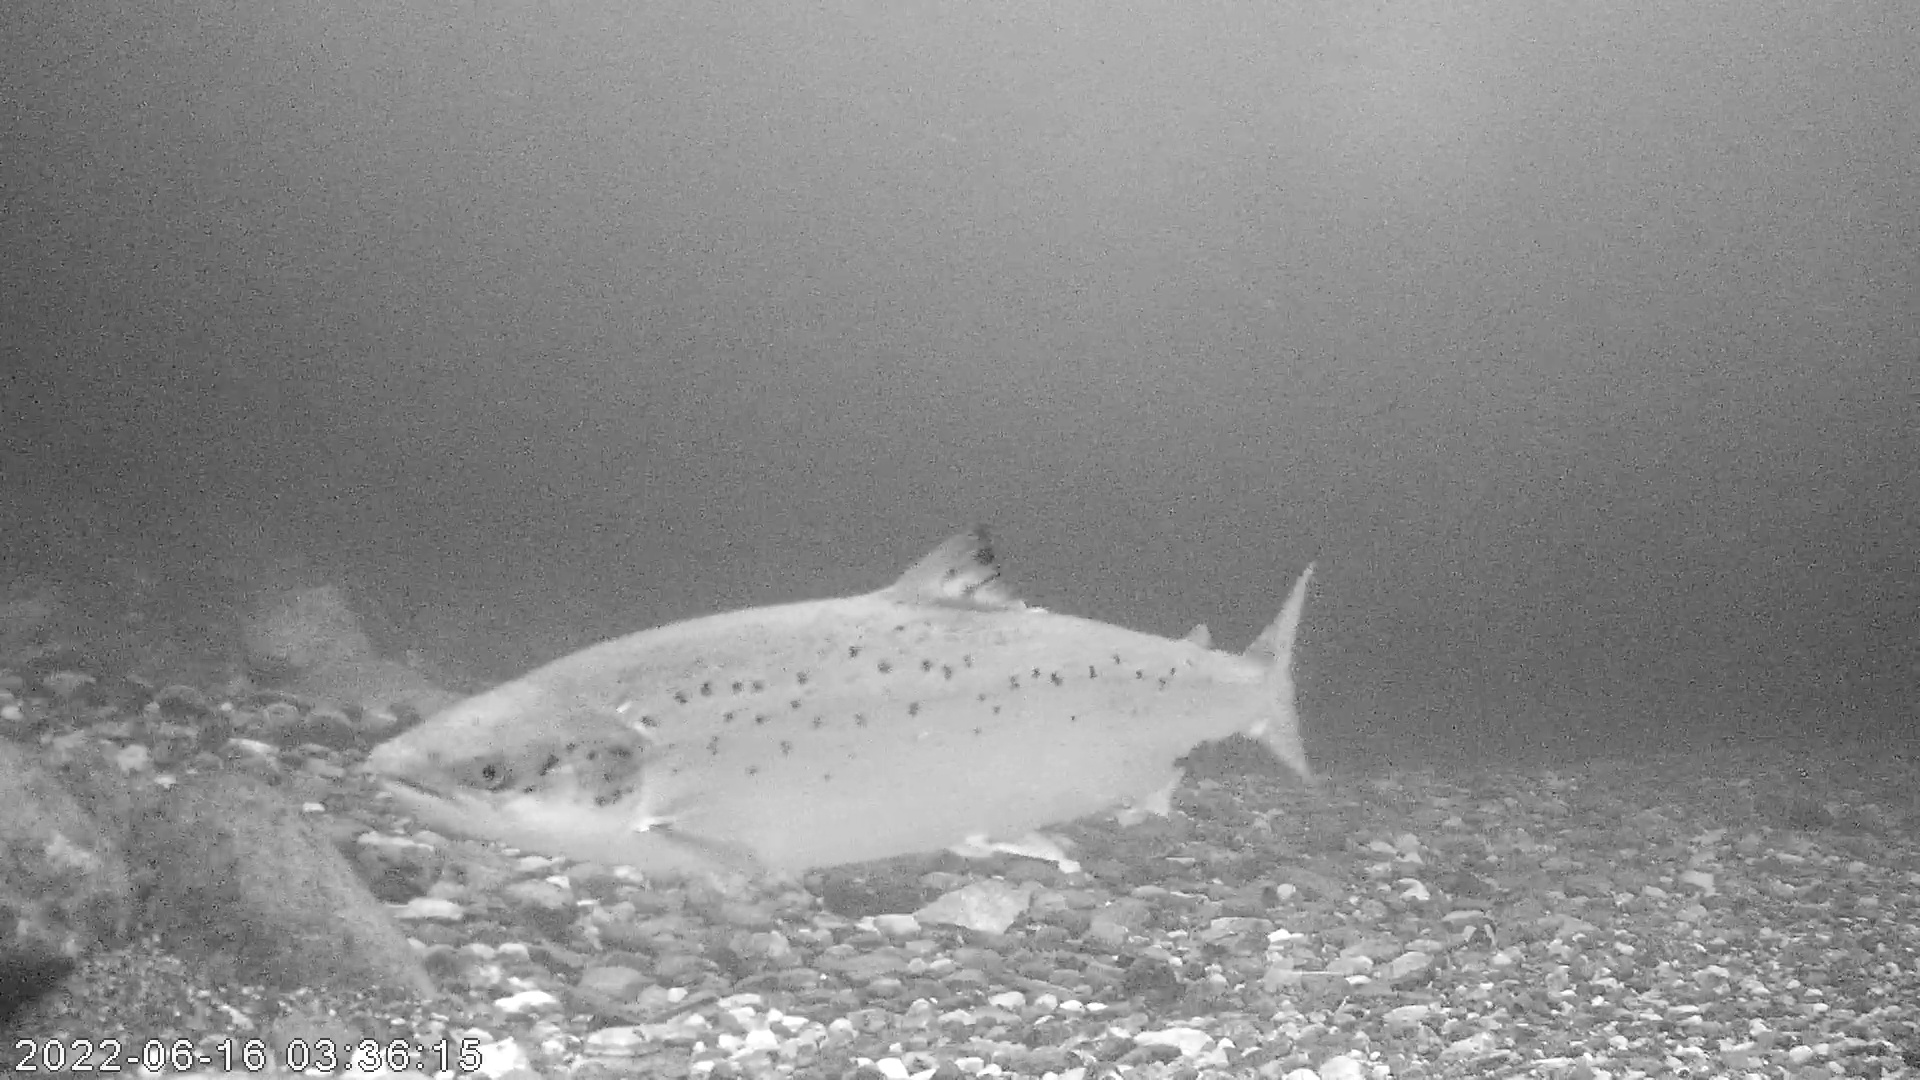salmon: (364, 520, 1321, 880)
